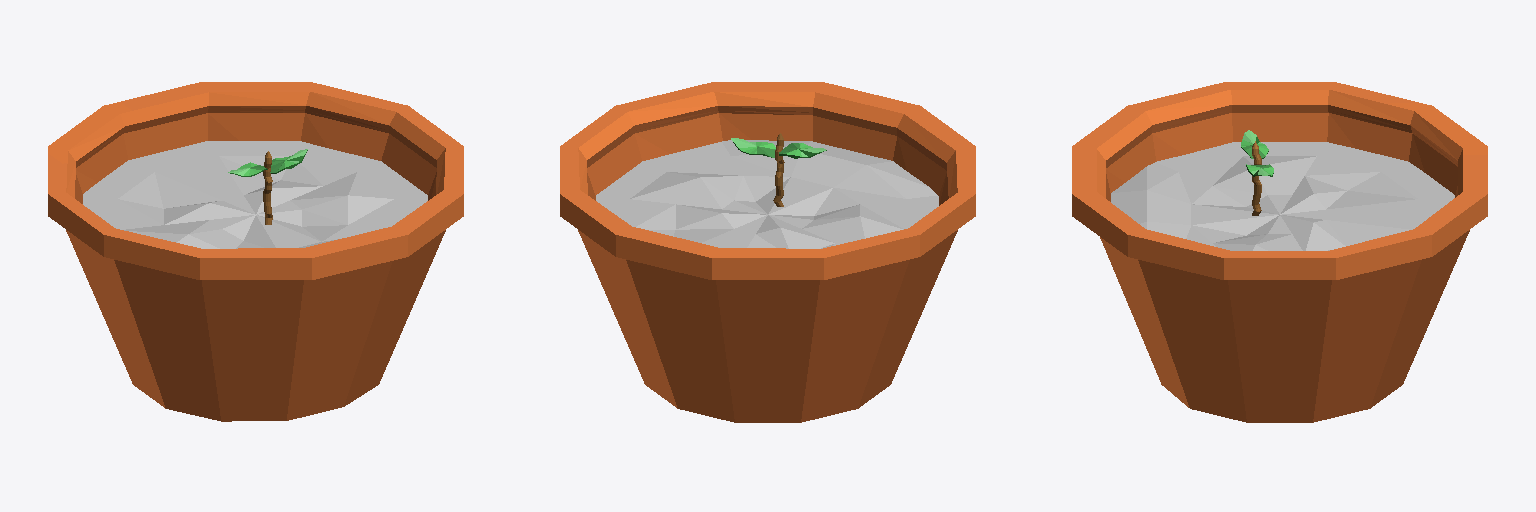
3 views of the same model, side by side, from view 1: azimuth 30°, elevation 25°; view 2: azimuth 150°, elevation 25°; view 3: azimuth 270°, elevation 25° (orthographic).
Visible parts, largest first — view 1: pot, soil, Left Leaf, Stem; view 2: pot, soil, Left Leaf; view 3: pot, soil, Left Leaf.
Boxes of the visible parts, x1=… form: pot: x1=48, y1=82, x2=463, y2=421; soil: x1=83, y1=141, x2=427, y2=248; Left Leaf: x1=228, y1=149, x2=307, y2=176; Stem: x1=263, y1=151, x2=272, y2=224; pot: x1=560, y1=82, x2=975, y2=422; soil: x1=596, y1=140, x2=938, y2=248; Left Leaf: x1=731, y1=138, x2=826, y2=158; pot: x1=1072, y1=82, x2=1487, y2=422; soil: x1=1111, y1=142, x2=1454, y2=250; Left Leaf: x1=1241, y1=130, x2=1273, y2=176.
Size of the model in its own units: 1.06 by 0.6438 by 1.06.
Materials: 4 (3 with a texture image).